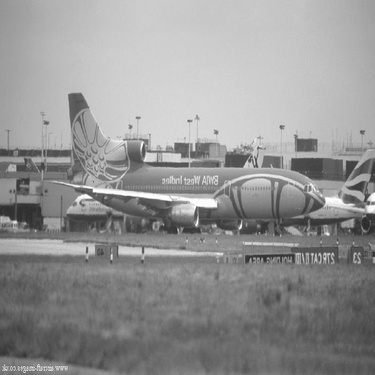airplane: (34, 73, 338, 261), (239, 134, 374, 239), (46, 160, 168, 233), (355, 173, 373, 235)
